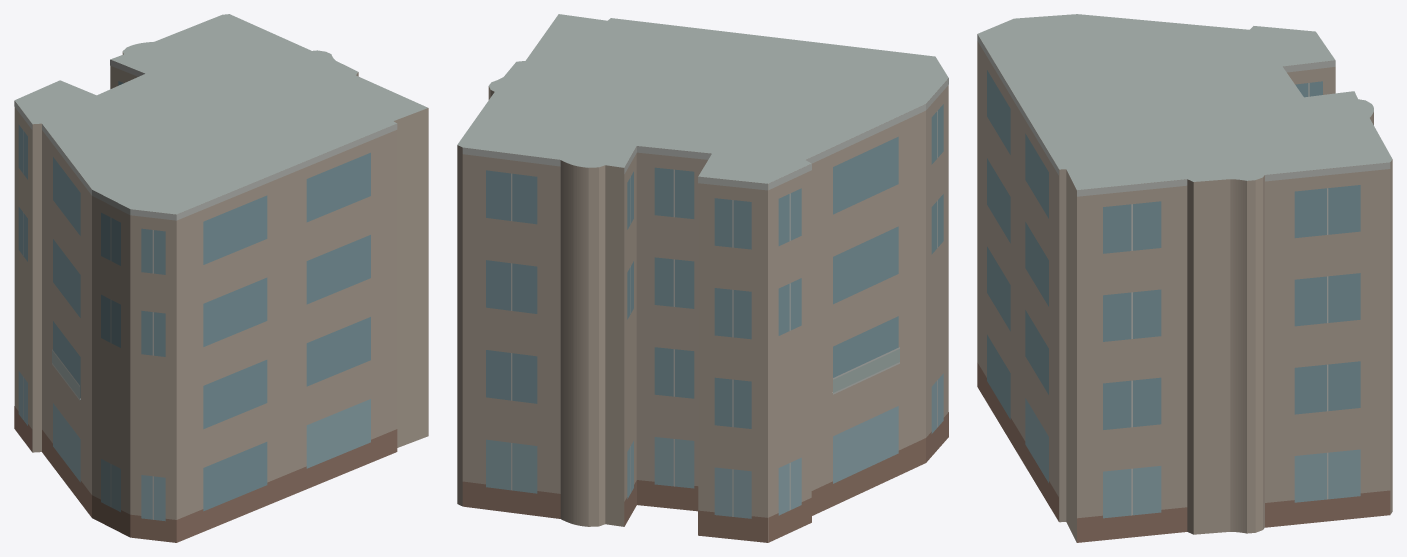
File: survey-upis-32679339.glb
3 views of the same model, side by side, from view 1: azimuth 30°, elevation 25°; view 2: azimuth 150°, elevation 25°; view 3: azimuth 270°, elevation 25° (orthographic). The views are drawn at different scales.
Visible parts, largest first — view 1: survey-upis-32679339.tmp; view 2: survey-upis-32679339.tmp; view 3: survey-upis-32679339.tmp.
Boxes of the visible parts, x1,y1,x2,y2 form: survey-upis-32679339.tmp: (14, 14, 428, 542); survey-upis-32679339.tmp: (457, 14, 948, 542); survey-upis-32679339.tmp: (977, 14, 1392, 542).
Size of the model in its own units: 14.04 by 13.1 by 13.99.
